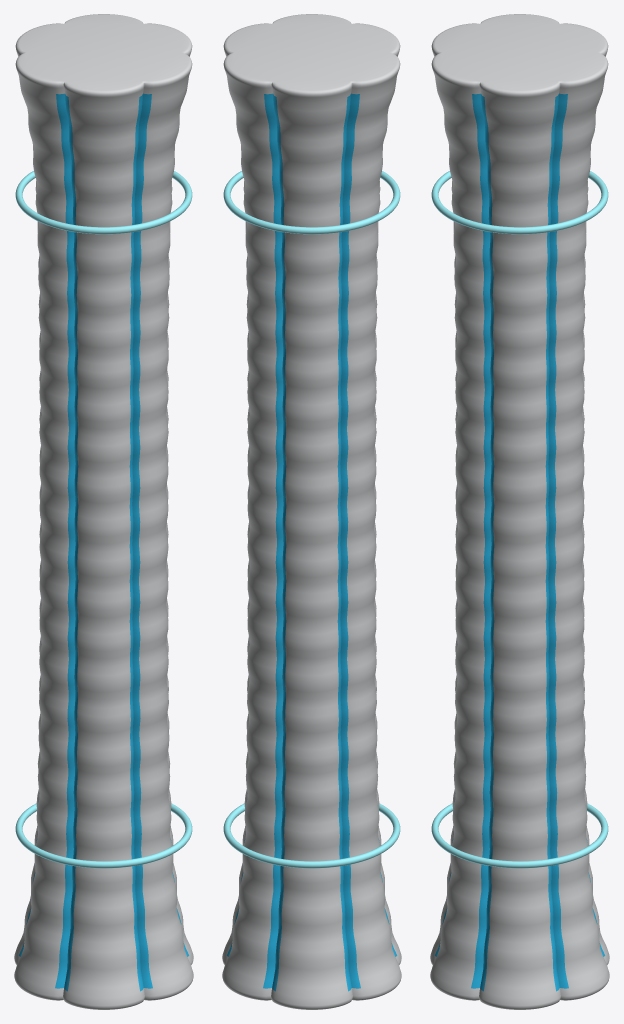
The model's file is Pillar_D08_ScallopShell.fbx.
The picture shows the model from 3 angles, left to right: view 1: azimuth 30°, elevation 25°; view 2: azimuth 150°, elevation 25°; view 3: azimuth 270°, elevation 25°; orthographic projection.
Visible parts, largest first — view 1: Pillar_D08_ScallopShell; view 2: Pillar_D08_ScallopShell; view 3: Pillar_D08_ScallopShell.
Boxes of the visible parts, x1,y1,x2,y2 form: Pillar_D08_ScallopShell: (14, 14, 193, 1009); Pillar_D08_ScallopShell: (222, 14, 401, 1009); Pillar_D08_ScallopShell: (430, 14, 609, 1009).
Bounding box in the file's own units: 0.7519 × 4 × 0.7076.
